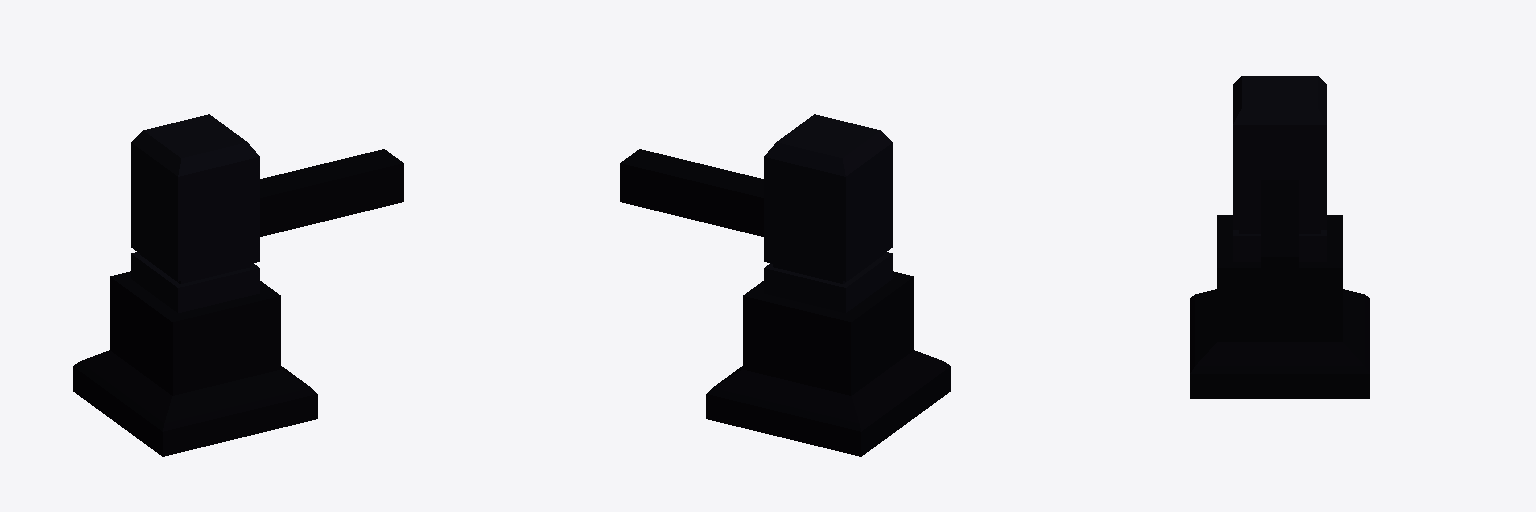
Rendered from Fence_End_Modular.obj.
The picture shows the model from 3 angles: view 1: azimuth 30°, elevation 25°; view 2: azimuth 150°, elevation 25°; view 3: azimuth 270°, elevation 25°; orthographic projection.
Visible parts, largest first — view 1: Fence_End_Modular_Cube; view 2: Fence_End_Modular_Cube; view 3: Fence_End_Modular_Cube.
Boxes of the visible parts, x1,y1,x2,y2 form: Fence_End_Modular_Cube: [73, 114, 403, 456]; Fence_End_Modular_Cube: [620, 114, 950, 456]; Fence_End_Modular_Cube: [1190, 76, 1369, 398].
Size of the model in its own units: 1.39 by 1.29 by 0.7812.